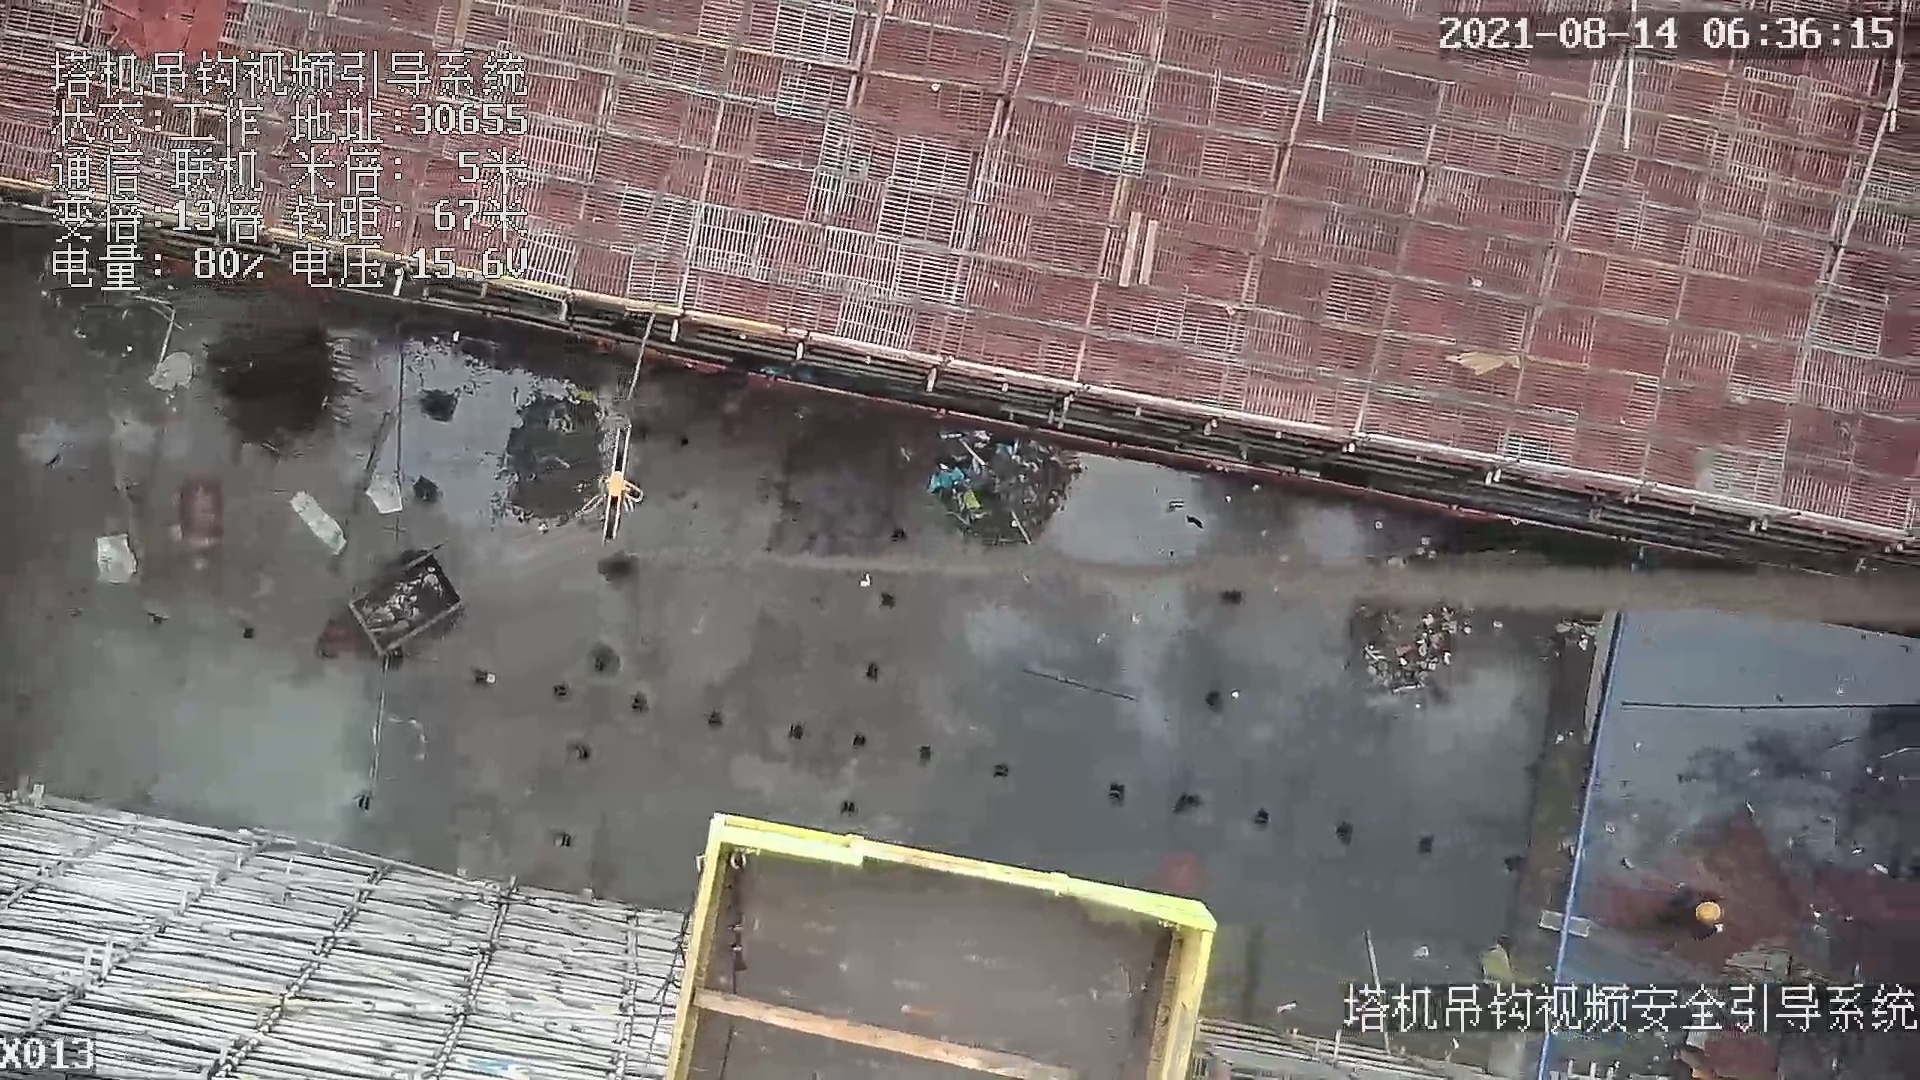helmet: (1694, 900, 1724, 926)
hook: (592, 423, 645, 541)
hopper: (329, 545, 481, 663)
person: (1655, 894, 1731, 946)
